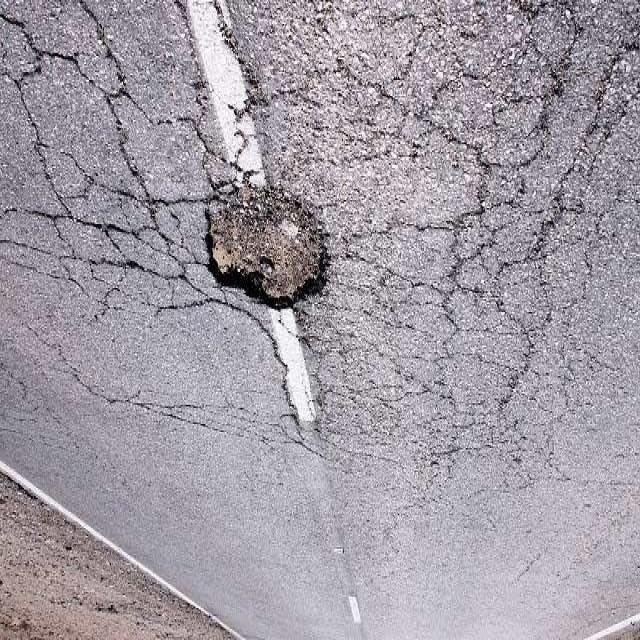jalan retak: (342, 0, 600, 240), (3, 0, 239, 198), (409, 328, 640, 523), (2, 133, 206, 330), (508, 0, 639, 294), (29, 332, 326, 457), (286, 0, 437, 182), (420, 176, 576, 352), (320, 255, 434, 478), (186, 0, 301, 215), (262, 292, 338, 459), (0, 332, 71, 454)
lubang: (192, 181, 336, 317)
